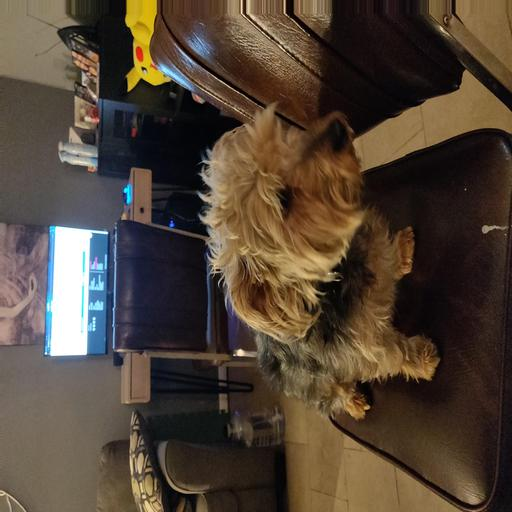dog: (190, 114, 393, 317)
